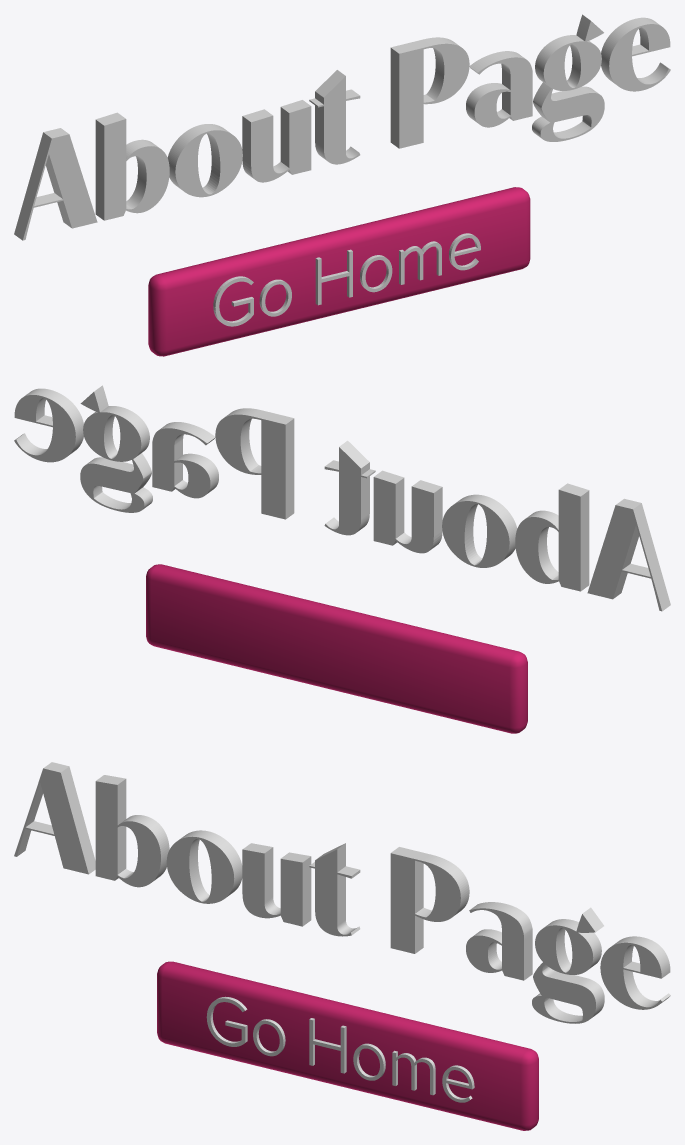
Rendered from about.glb.
The picture shows the model from 3 angles, top to bottom: view 1: azimuth 30°, elevation 25°; view 2: azimuth 150°, elevation 25°; view 3: azimuth 330°, elevation 25°; orthographic projection.
Parts seen in each view (by area): view 1: about, button_home; view 2: about, button_home; view 3: about, button_home.
Boxes of the visible parts, x1=… form: about: x1=14, y1=14, x2=670, y2=240; button_home: x1=148, y1=187, x2=530, y2=356; about: x1=14, y1=385, x2=670, y2=611; button_home: x1=146, y1=564, x2=527, y2=733; about: x1=14, y1=762, x2=670, y2=1023; button_home: x1=157, y1=961, x2=538, y2=1130.
Size of the model in its own units: 8.61 by 3.21 by 0.35.
